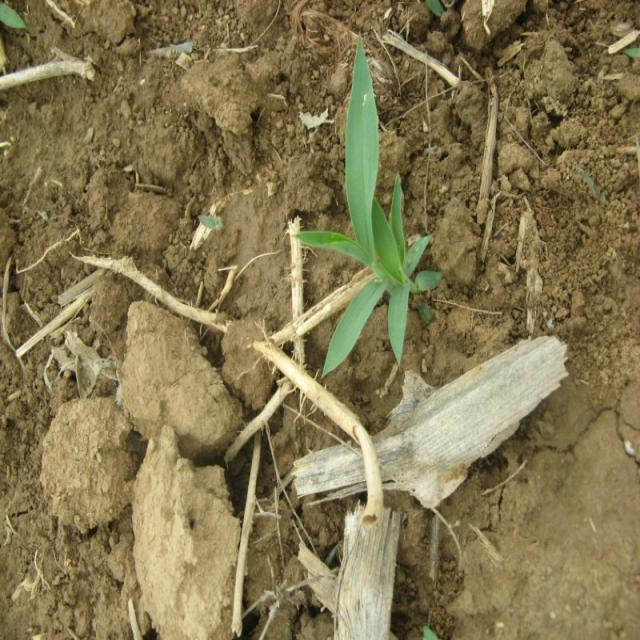bg: (286, 38, 441, 374)
